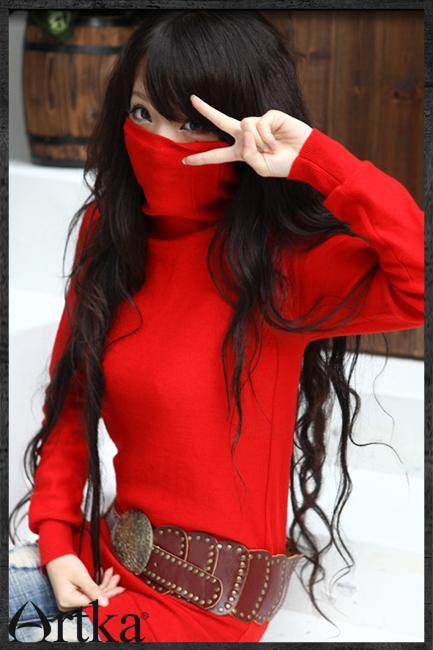OK: (122, 76, 238, 202)
